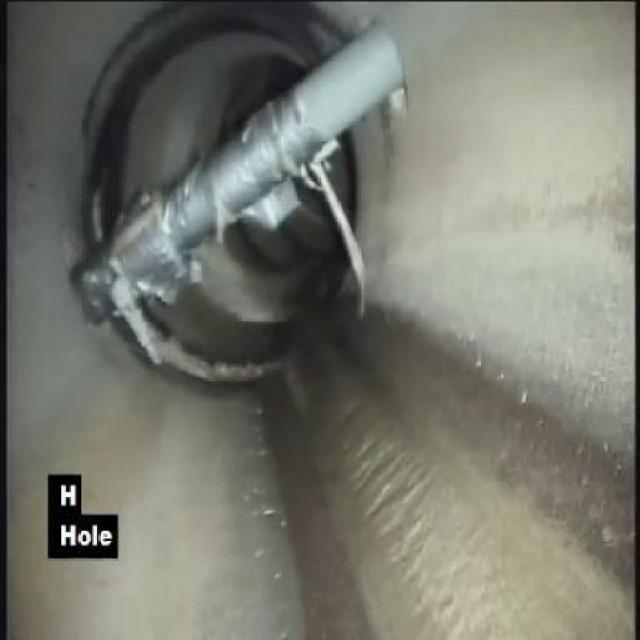Utility intrusion: (63, 163, 240, 328), (242, 20, 408, 163)
